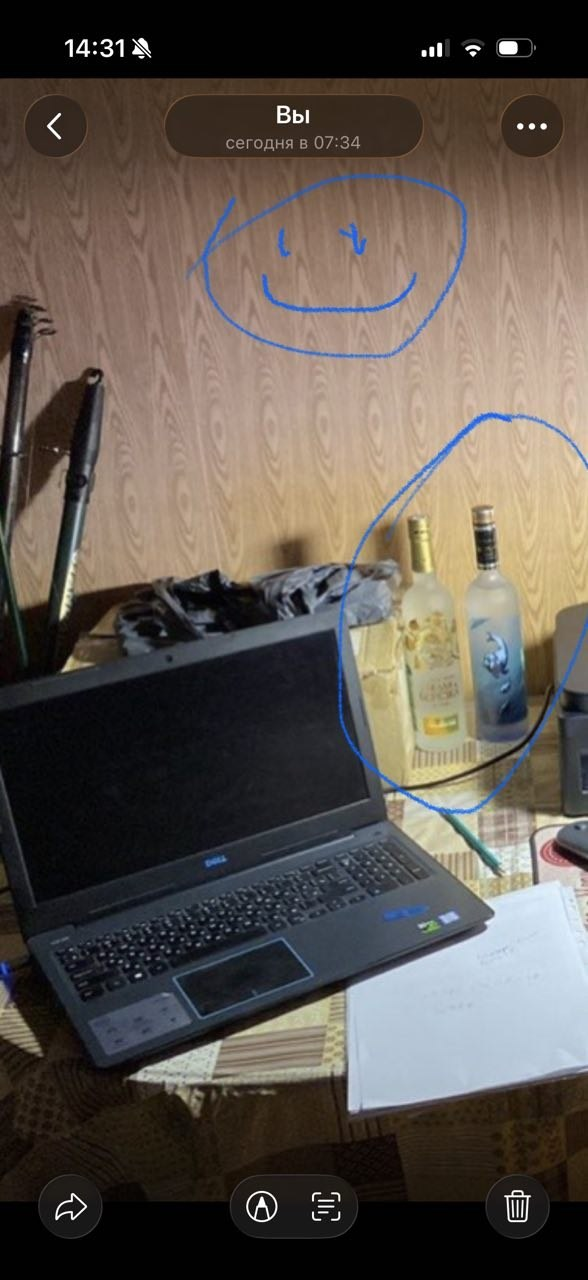laptop: (1, 603, 495, 1070)
